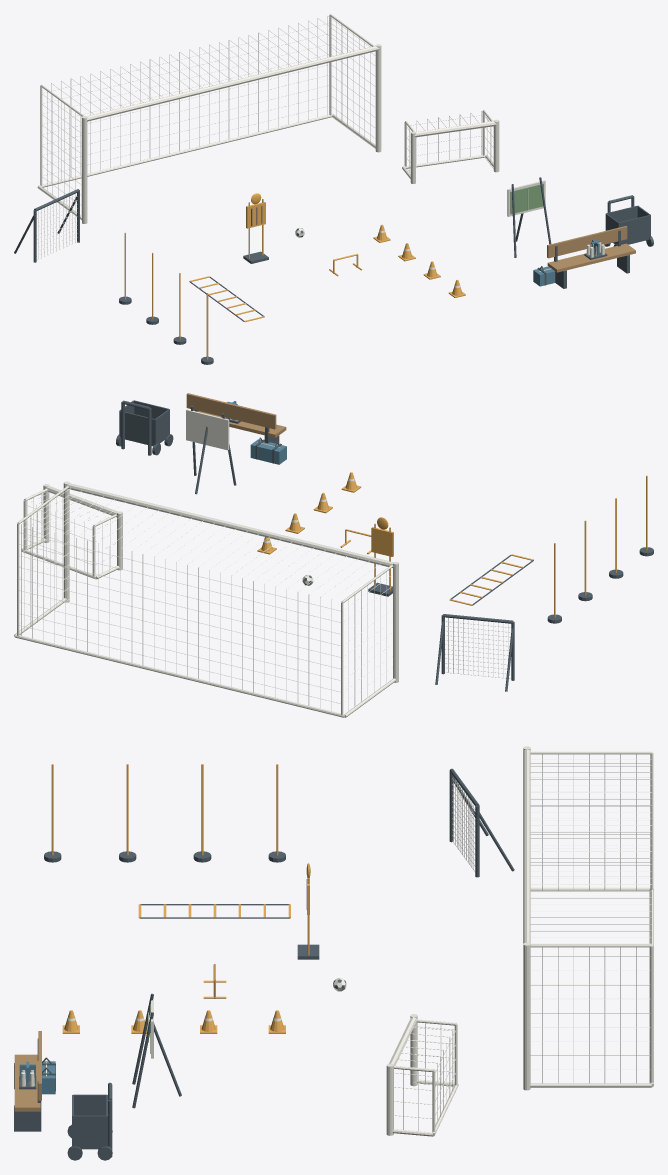
The model's file is training-equipment-layout-9cbfc598.glb.
The picture shows the model from 3 angles, top to bottom: view 1: azimuth 30°, elevation 25°; view 2: azimuth 150°, elevation 25°; view 3: azimuth 270°, elevation 25°; orthographic projection. The views are drawn at different scales.
Parts seen in each view (by area): view 1: 000-full-size-goal/0, 003-mini-goal/0, 007-team-bench/0, 008-ball-cart/0, 002-training-rebounder/1, 002-training-rebounder/0, 006-tactics-easel/2, 011-free-kick-mannequin/1; view 2: 000-full-size-goal/0, 003-mini-goal/0, 008-ball-cart/0, 007-team-bench/0, 002-training-rebounder/1, 006-tactics-easel/1, 002-training-rebounder/0, 011-free-kick-mannequin/1, 009-equipment-carry-bag/0, 006-tactics-easel/0; view 3: 000-full-size-goal/0, 003-mini-goal/0, 008-ball-cart/0, 002-training-rebounder/0, 007-team-bench/0, 002-training-rebounder/1, 006-tactics-easel/0, 007-team-bench/1.
Boxes of the visible parts, x1=… form: 000-full-size-goal/0: x1=37, y1=14, x2=381, y2=223; 003-mini-goal/0: x1=402, y1=110, x2=499, y2=183; 007-team-bench/0: x1=547, y1=226, x2=635, y2=272; 008-ball-cart/0: x1=605, y1=195, x2=650, y2=244; 002-training-rebounder/1: x1=36, y1=194, x2=77, y2=259; 002-training-rebounder/0: x1=14, y1=189, x2=79, y2=262; 006-tactics-easel/2: x1=510, y1=184, x2=543, y2=214; 011-free-kick-mannequin/1: x1=246, y1=193, x2=265, y2=258; 000-full-size-goal/0: x1=14, y1=481, x2=398, y2=717; 003-mini-goal/0: x1=21, y1=484, x2=122, y2=579; 008-ball-cart/0: x1=119, y1=400, x2=169, y2=455; 007-team-bench/0: x1=186, y1=393, x2=286, y2=437; 002-training-rebounder/1: x1=445, y1=617, x2=511, y2=678; 006-tactics-easel/1: x1=186, y1=409, x2=229, y2=450; 002-training-rebounder/0: x1=435, y1=614, x2=514, y2=691; 011-free-kick-mannequin/1: x1=371, y1=517, x2=393, y2=590; 009-equipment-carry-bag/0: x1=250, y1=439, x2=286, y2=464; 006-tactics-easel/0: x1=191, y1=405, x2=236, y2=494; 000-full-size-goal/0: x1=523, y1=746, x2=653, y2=1090; 003-mini-goal/0: x1=386, y1=1014, x2=458, y2=1136; 008-ball-cart/0: x1=72, y1=1082, x2=112, y2=1157; 002-training-rebounder/0: x1=449, y1=768, x2=514, y2=877; 007-team-bench/0: x1=14, y1=1031, x2=41, y2=1111; 002-training-rebounder/1: x1=452, y1=777, x2=475, y2=871; 006-tactics-easel/0: x1=132, y1=993, x2=181, y2=1108; 007-team-bench/1: x1=14, y1=1038, x2=41, y2=1131.
Size of the model in its own units: 12.31 by 2.56 by 10.26.
